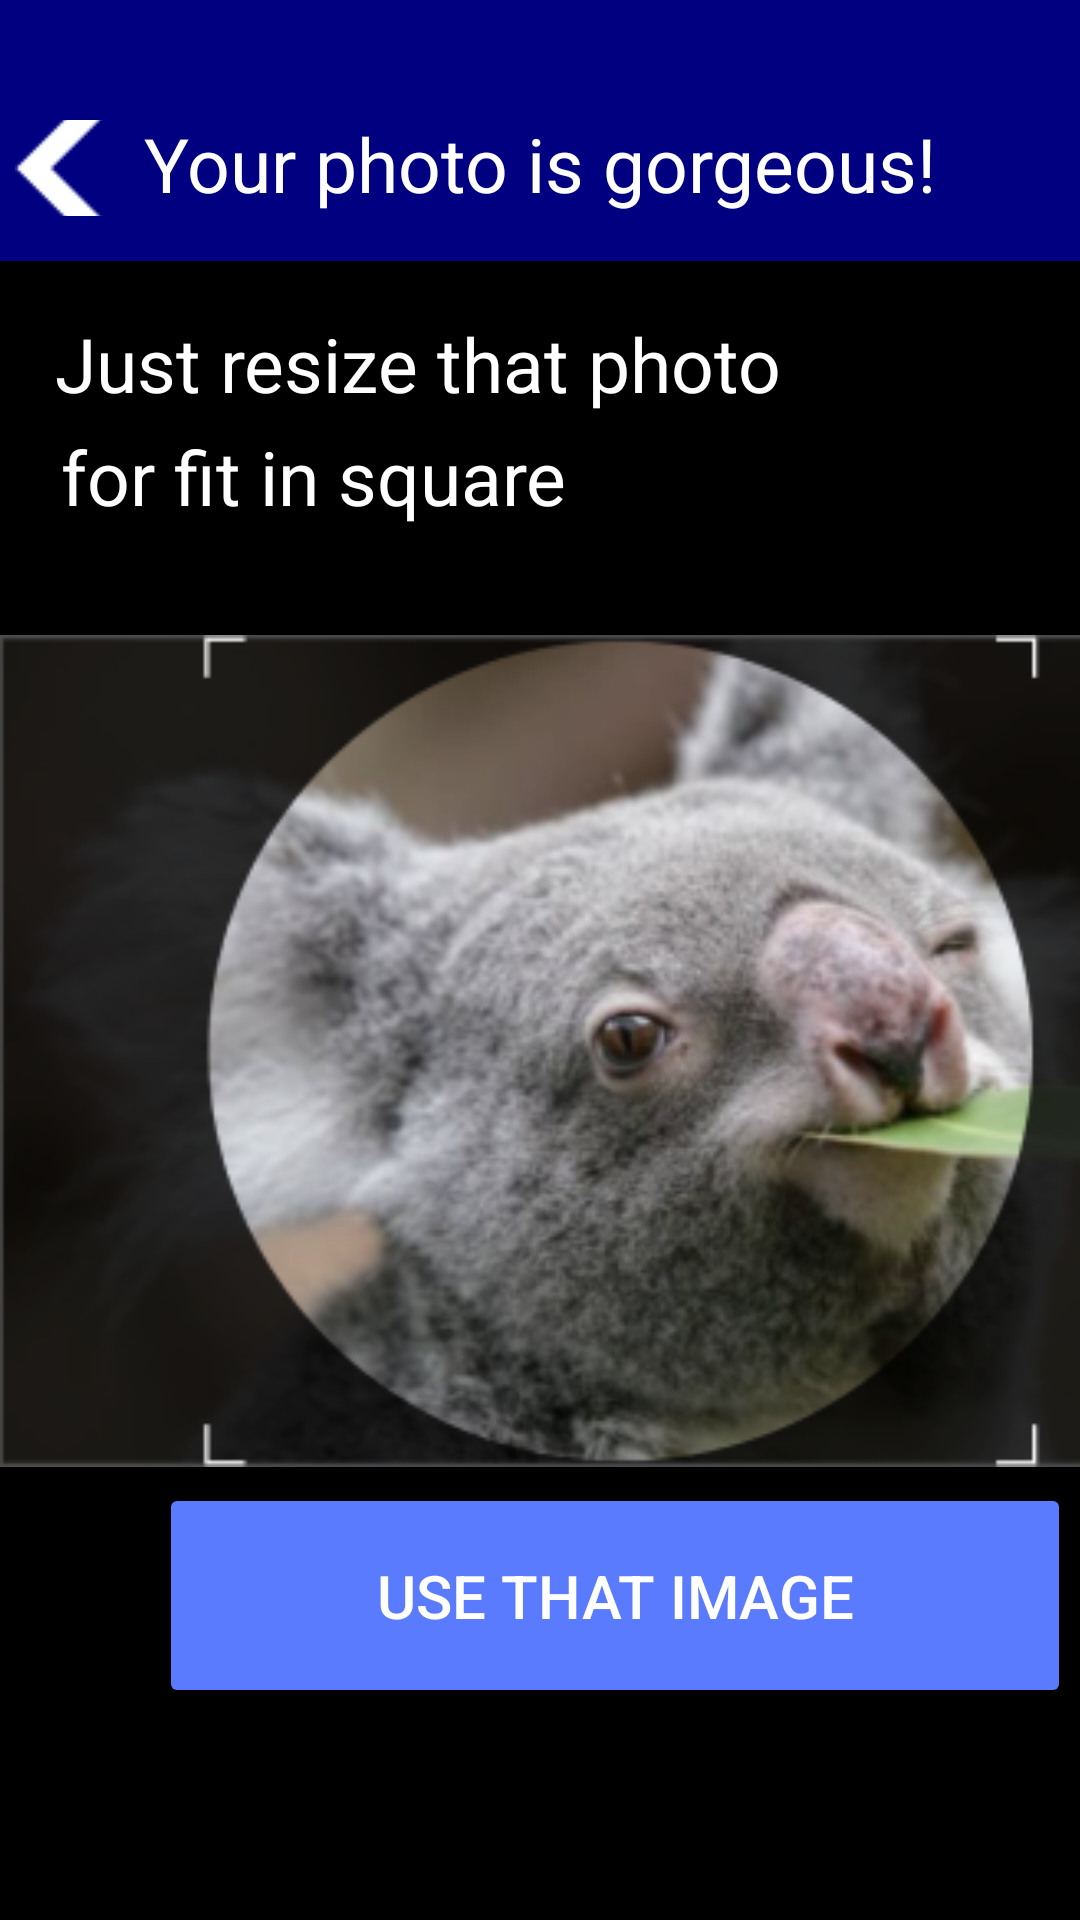

Screen size 1080*1920. Icon name, then its center in pixels as [x,y]:
back: [58,168]
